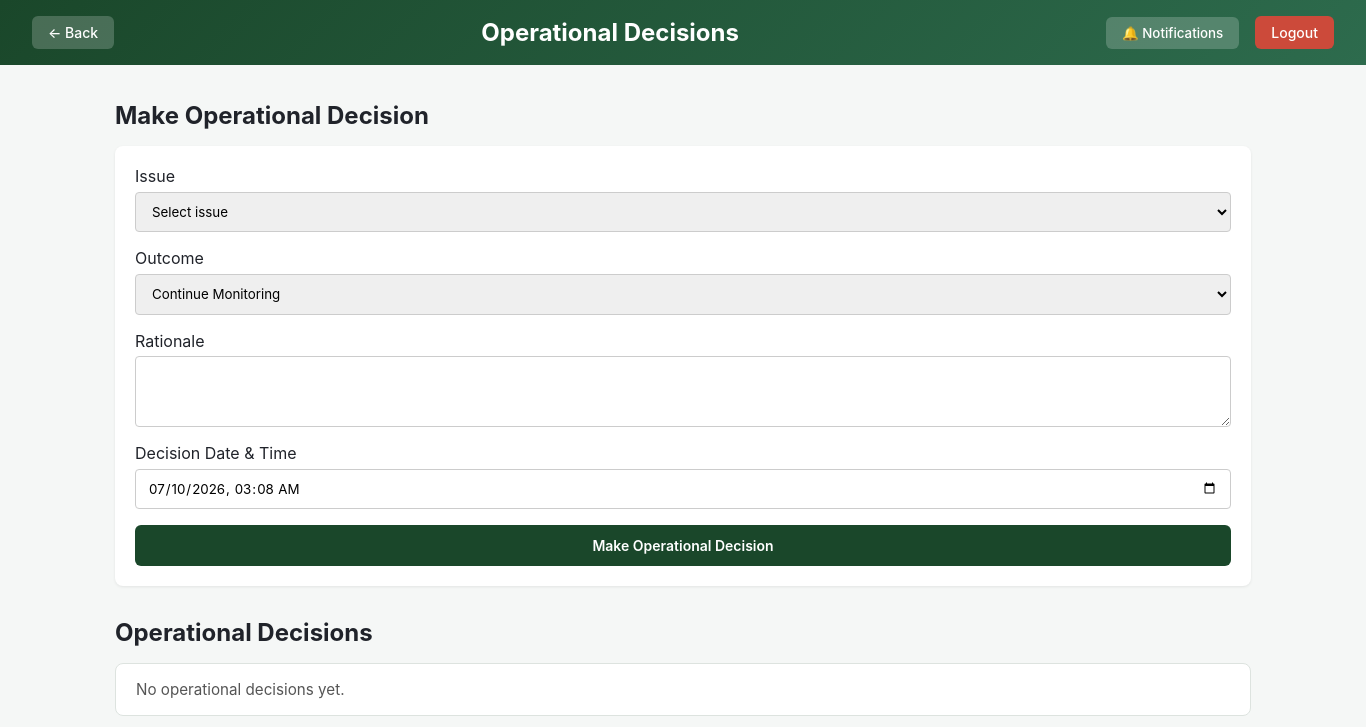
OperationalDecisionsPage › displays forbidden message when backend rejects unauthorized decision
Select "#10 — Central Playground (High)" in the dropdown labelled "Issue" at [683, 212], box [135,192,1231,232]
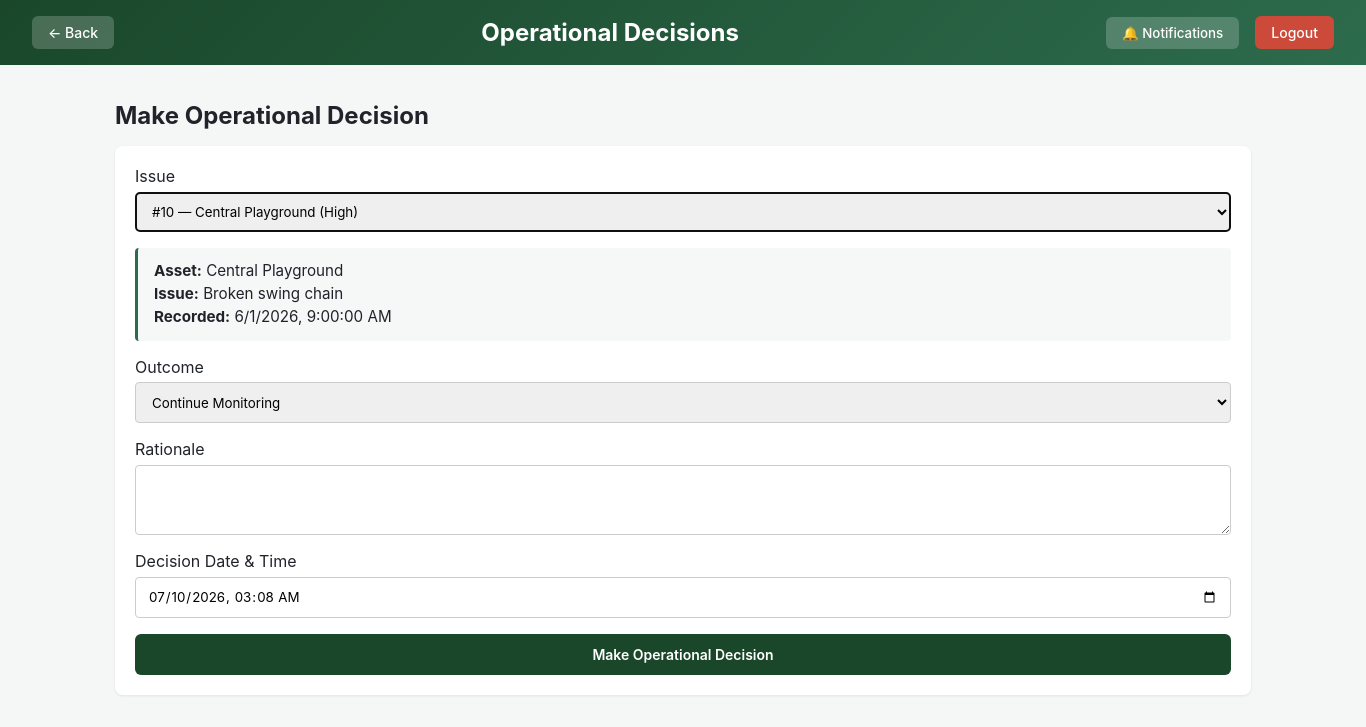
Type "Forged attempt" into the text box labelled "Rationale" at [683, 500], box [135,465,1231,535]
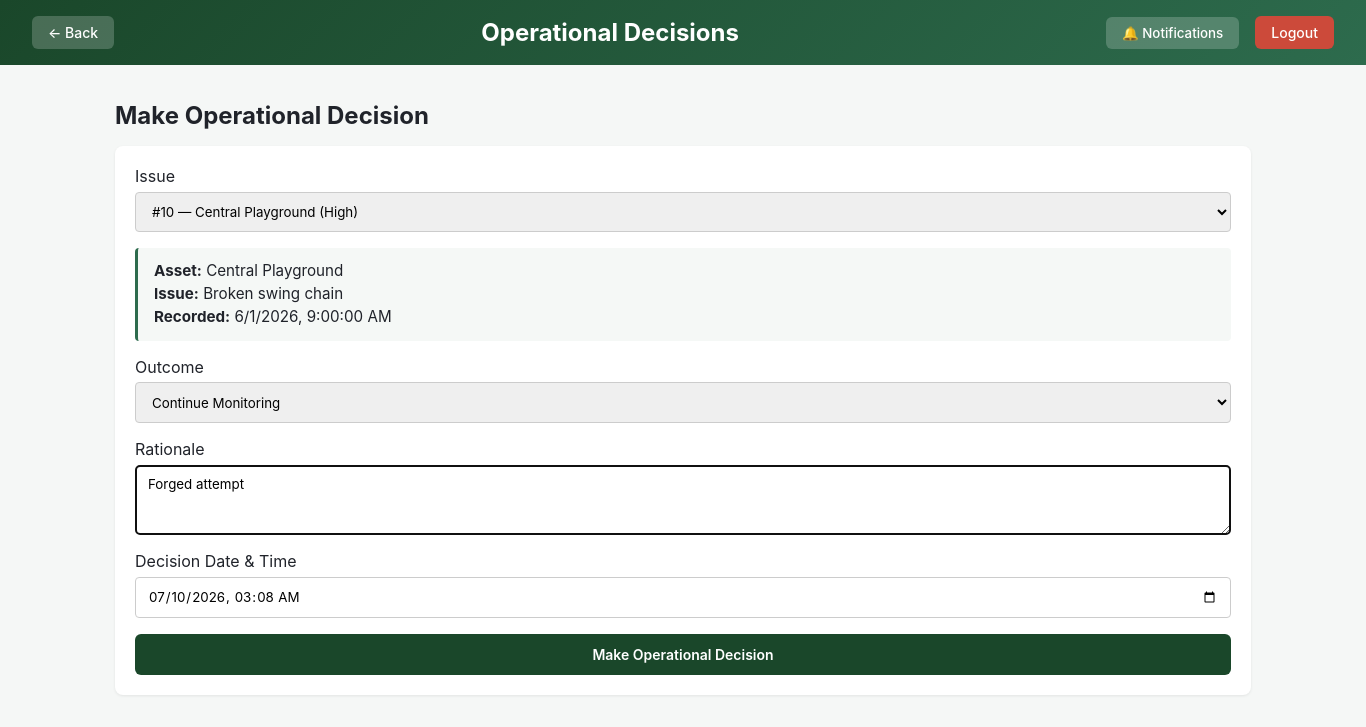
Click the button "Make Operational Decision" at [683, 654], box [135,634,1231,675]
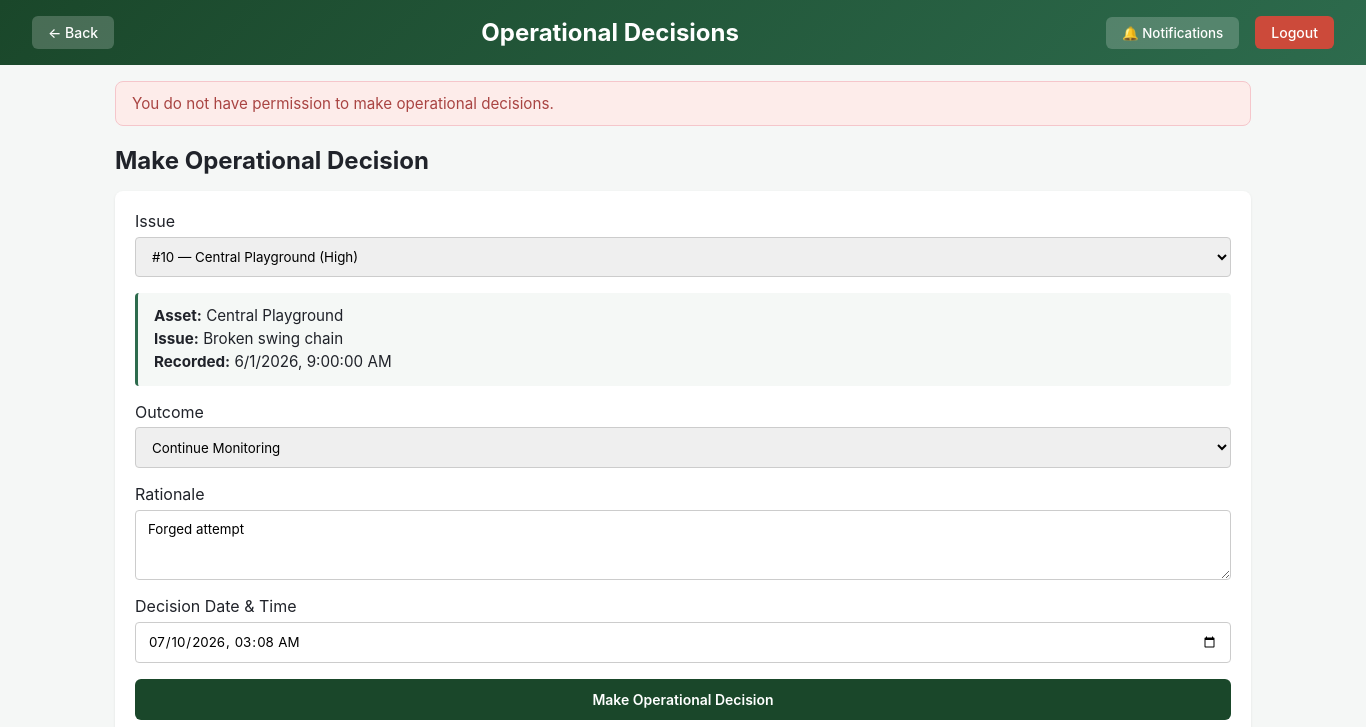
Expected: the text "You do not have permission to make operational decisions." is shown, [115,81,1251,126]
